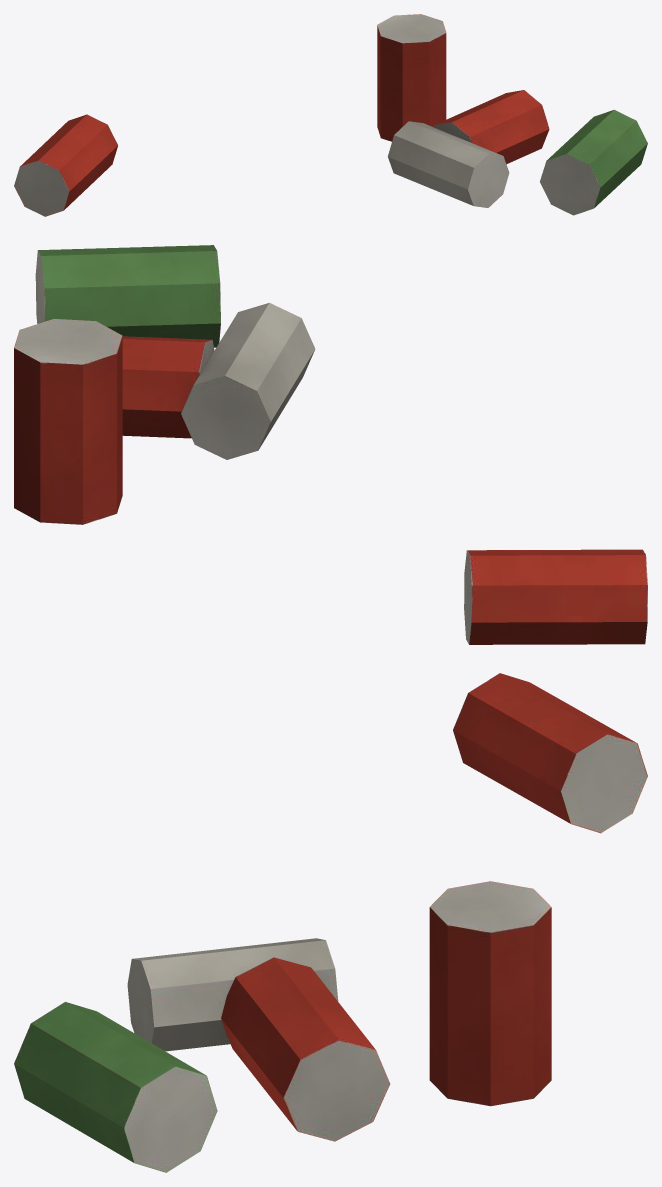
Rendered from trash_cans_idle.glb.
3 views of the same model, one above another, from view 1: azimuth 30°, elevation 25°; view 2: azimuth 150°, elevation 25°; view 3: azimuth 270°, elevation 25° (orthographic). The views are drawn at different scales.
Parts seen in each view (by area): view 1: trash_cans; view 2: trash_cans; view 3: trash_cans.
Part boxes in pixels (x1=…): trash_cans: x1=14, y1=14, x2=647, y2=216; trash_cans: x1=14, y1=245, x2=647, y2=644; trash_cans: x1=14, y1=673, x2=647, y2=1172.
Bounding box in the file's own units: 0.5777 × 0.1139 × 0.3642.
Materials: 1 (1 with a texture image).
